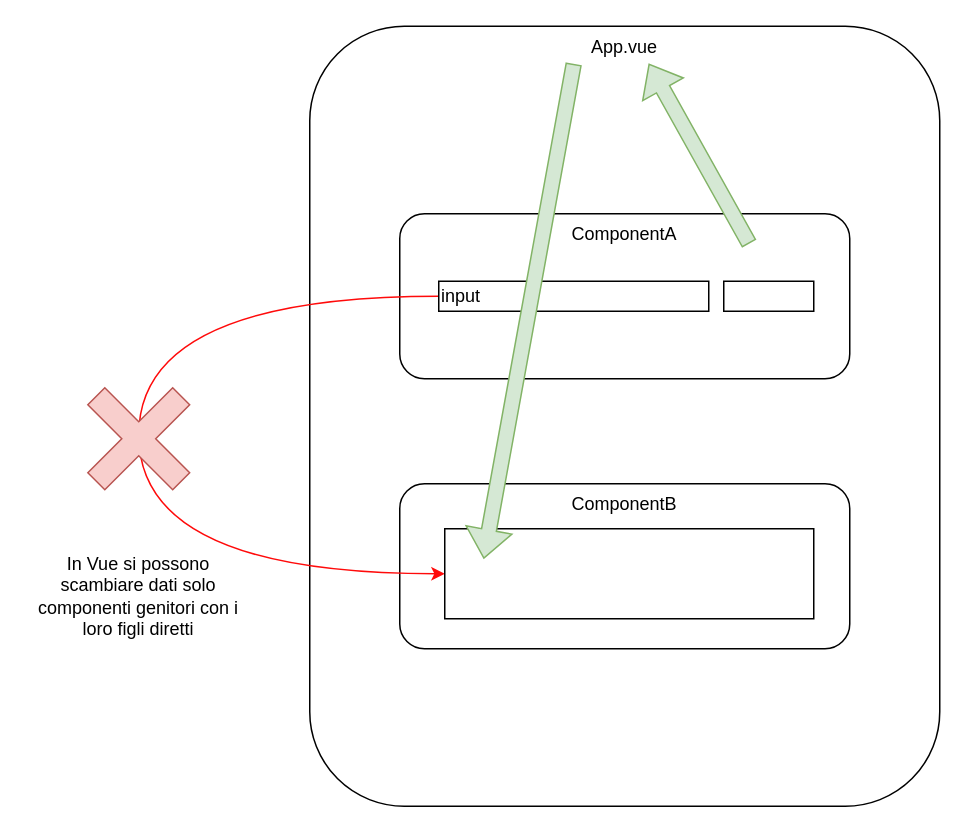
This 966x833 diagram has some shape labels left out. Each missing label, with the centre of its shape:
button: the point at 768,295
div che visualizza il testo scritto nell'input: the point at 628,573
